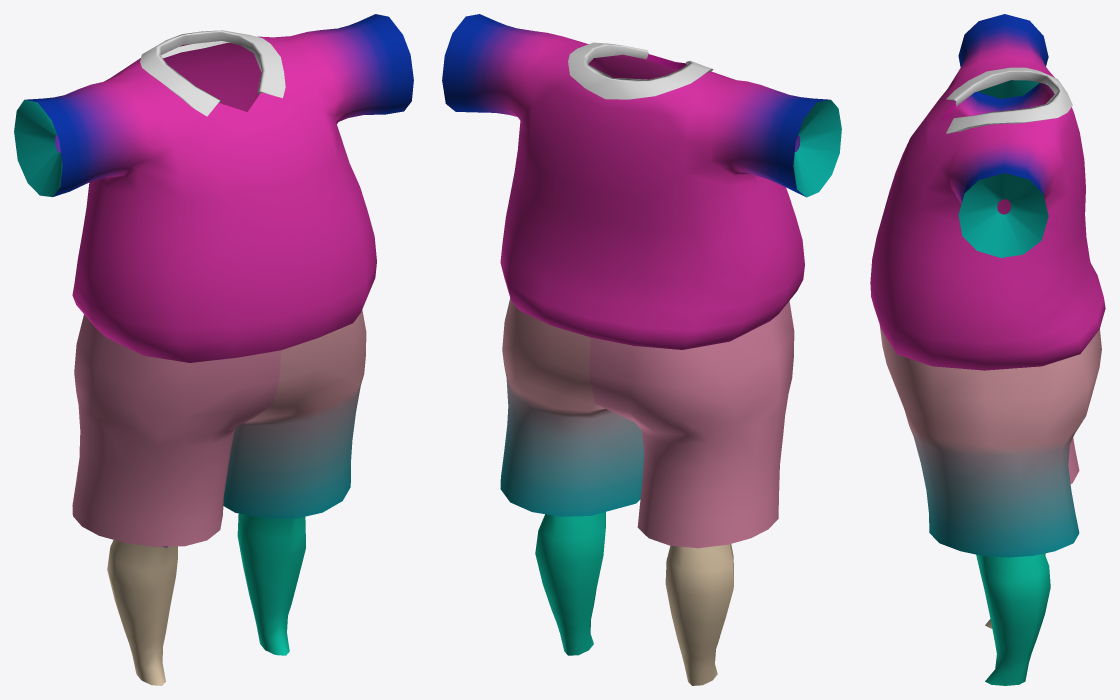
Rendered from 00_Fat.fbx.
3 views of the same model, side by side, from view 1: azimuth 30°, elevation 25°; view 2: azimuth 150°, elevation 25°; view 3: azimuth 270°, elevation 25° (orthographic). The views are drawn at different scales.
Visible parts, largest first — view 1: u000104_20, u000104_30, collar_10; view 2: u000104_20, u000104_30, collar_10; view 3: u000104_20, u000104_30, collar_10.
Part boxes in pixels (left/top/right/bottom): u000104_20: left=14, top=14, right=413, bottom=362; u000104_30: left=72, top=310, right=366, bottom=685; collar_10: left=140, top=30, right=285, bottom=116; u000104_20: left=442, top=14, right=841, bottom=349; u000104_30: left=500, top=298, right=794, bottom=685; collar_10: left=568, top=42, right=713, bottom=99; u000104_20: left=870, top=14, right=1105, bottom=370; u000104_30: left=879, top=325, right=1101, bottom=685; collar_10: left=946, top=67, right=1072, bottom=133.
Bounding box in the file's own units: 50.74 × 83.77 × 31.7.
